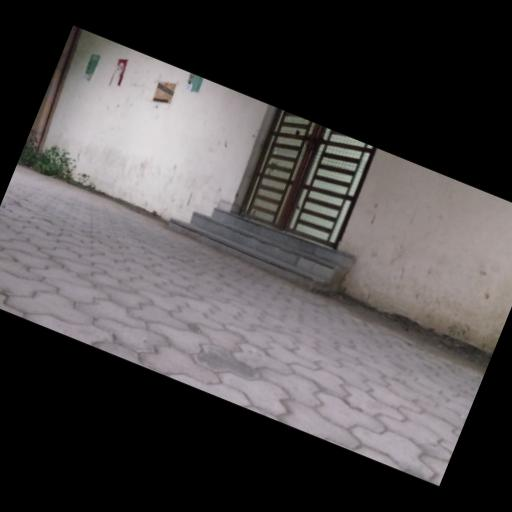stairs: (168, 209, 352, 293)
